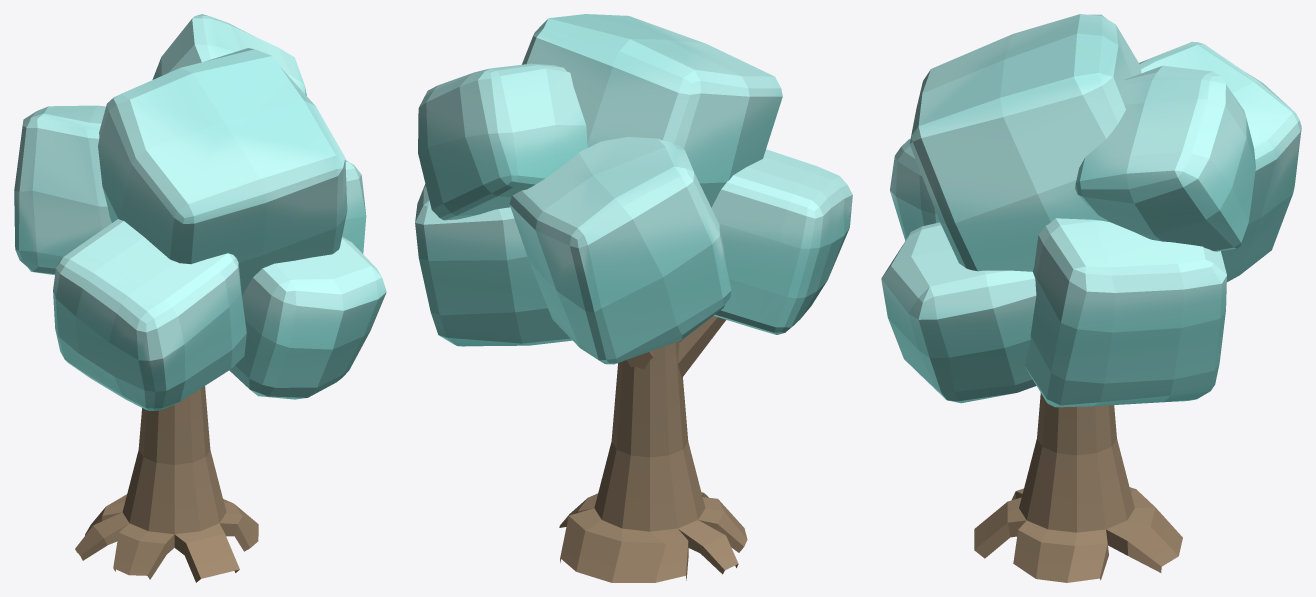
The model's file is Tree_Cube_Winter.fbx.
The picture shows the model from 3 angles, left to right: view 1: azimuth 30°, elevation 25°; view 2: azimuth 150°, elevation 25°; view 3: azimuth 270°, elevation 25°; orthographic projection. The views are drawn at different scales.
Parts seen in each view (by area): view 1: Tree_Cube_Winter; view 2: Tree_Cube_Winter; view 3: Tree_Cube_Winter.
Part boxes in pixels (<box>): Tree_Cube_Winter: <box>14,14,386,582</box>; Tree_Cube_Winter: <box>415,14,852,582</box>; Tree_Cube_Winter: <box>881,14,1301,582</box>.
Size of the model in its own units: 270 by 367 by 267.
